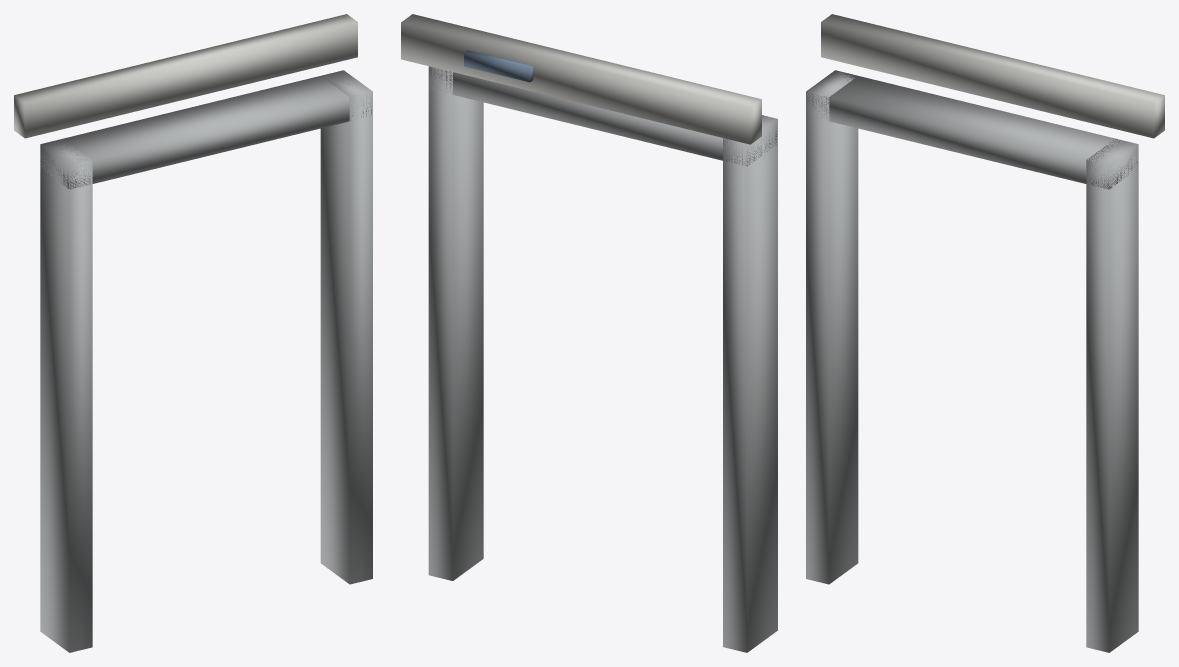
The model's file is doorway_hospital_w122_h210_d24.glb.
3 renders of one model, left to right at view 1: azimuth 30°, elevation 25°; view 2: azimuth 150°, elevation 25°; view 3: azimuth 330°, elevation 25°, orthographic. The views are drawn at different scales.
Visible parts, largest first — view 1: world; view 2: world; view 3: world.
Boxes of the visible parts, x1,y1,x2,y2 form: world: [14, 14, 372, 652]; world: [401, 14, 777, 652]; world: [806, 14, 1164, 652].
Bounding box in the file's own units: 1.58 × 2.41 × 0.36.
